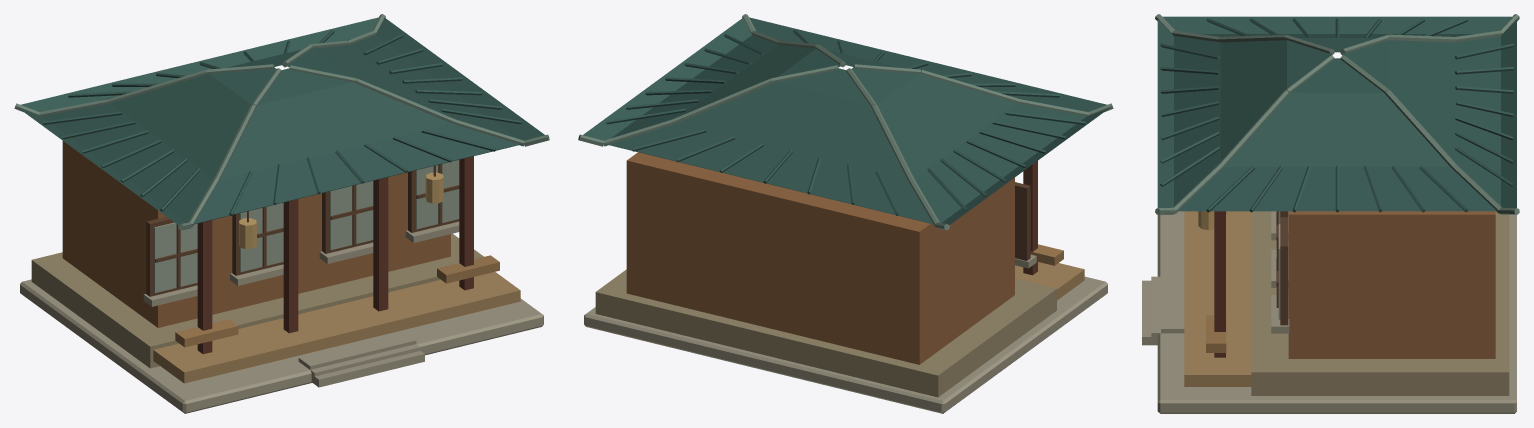
The model's file is build-teahall.glb.
3 renders of one model, left to right at view 1: azimuth 30°, elevation 25°; view 2: azimuth 150°, elevation 25°; view 3: azimuth 270°, elevation 25°, orthographic. The views are drawn at different scales.
Parts seen in each view (by area): view 1: SculptedModel; view 2: SculptedModel; view 3: SculptedModel.
Part boxes in pixels (bbox=[...]): SculptedModel: bbox=[14, 14, 549, 413]; SculptedModel: bbox=[578, 14, 1113, 413]; SculptedModel: bbox=[1142, 14, 1519, 413].
Bounding box in the file's own units: 5.96 × 3.77 × 4.84.
